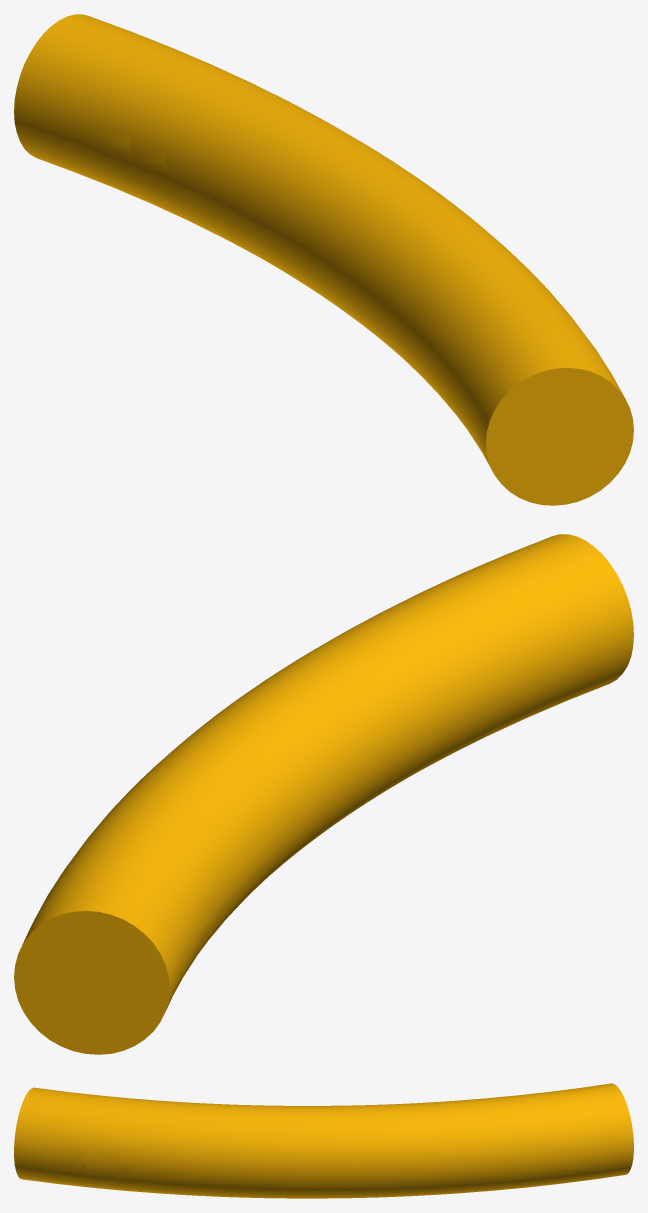
The model's file is Exc_Motor_5203_2402_0188_2.obj.
3 renders of one model, top to bottom at view 1: azimuth 30°, elevation 25°; view 2: azimuth 150°, elevation 25°; view 3: azimuth 270°, elevation 25°, orthographic. The views are drawn at different scales.
Visible parts, largest first — view 1: mesh28555; view 2: mesh28555; view 3: mesh28555.
Boxes of the visible parts, box(x1,y1,x2,y2) form: mesh28555: box(14, 14, 633, 505); mesh28555: box(14, 534, 633, 1054); mesh28555: box(14, 1083, 633, 1198).
Bounding box in the file's own units: 0.00125 × 0.000797 × 0.00535.
